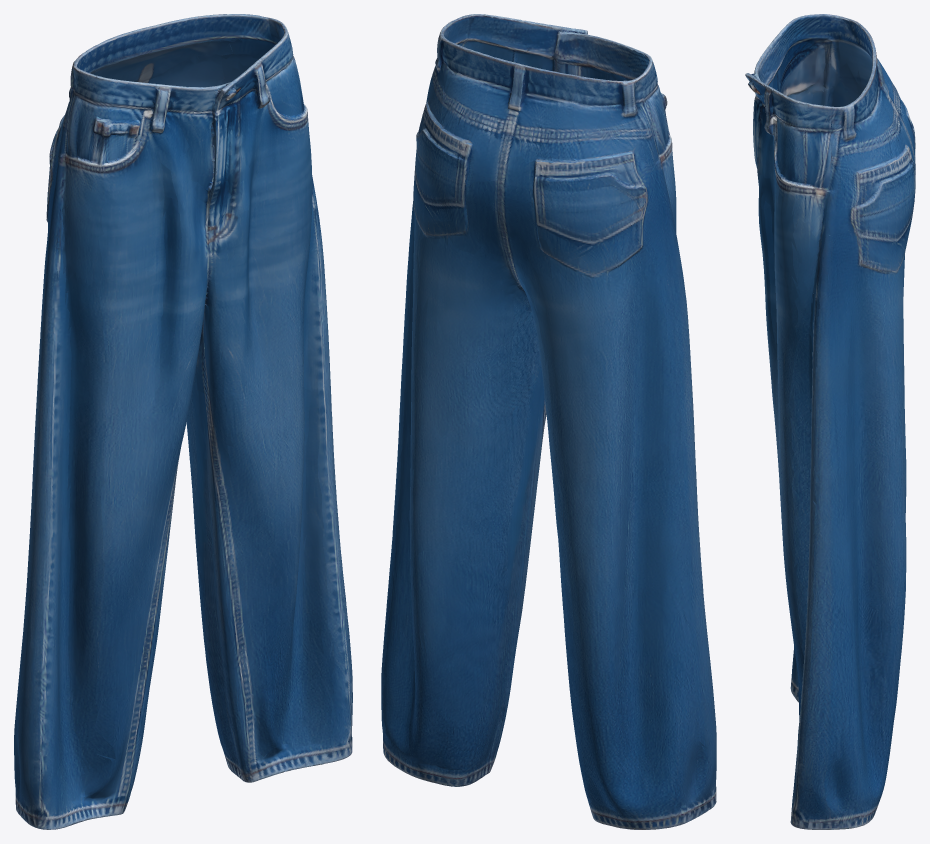
Rendered from 3e3a3d35-e3af-46e9-99dc-5327e45b61ee-meshy.glb.
3 renders of one model, left to right at view 1: azimuth 30°, elevation 25°; view 2: azimuth 150°, elevation 25°; view 3: azimuth 270°, elevation 25°, orthographic. The views are drawn at different scales.
Bounding box in the file's own units: 0.8686 × 1.9 × 0.4125.
Materials: 1 (1 with a texture image).
